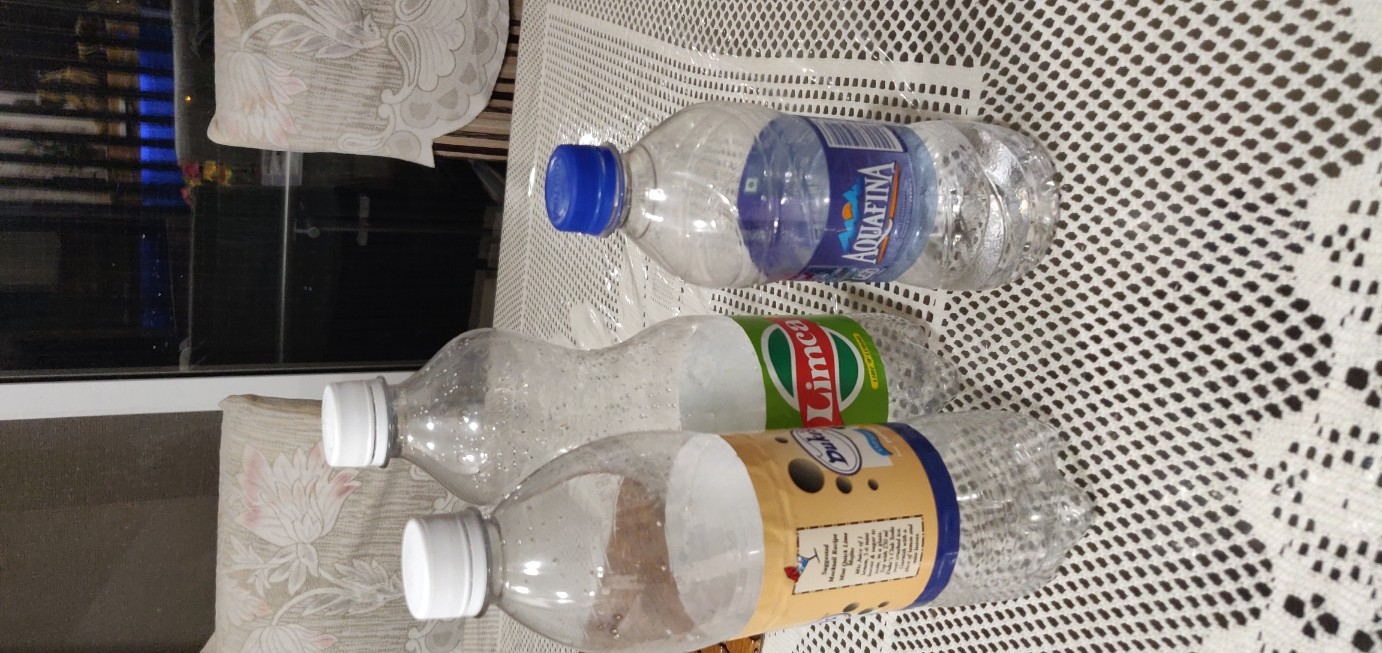Electronics: (376, 394, 1109, 653), (291, 290, 997, 535), (488, 83, 1076, 308)
